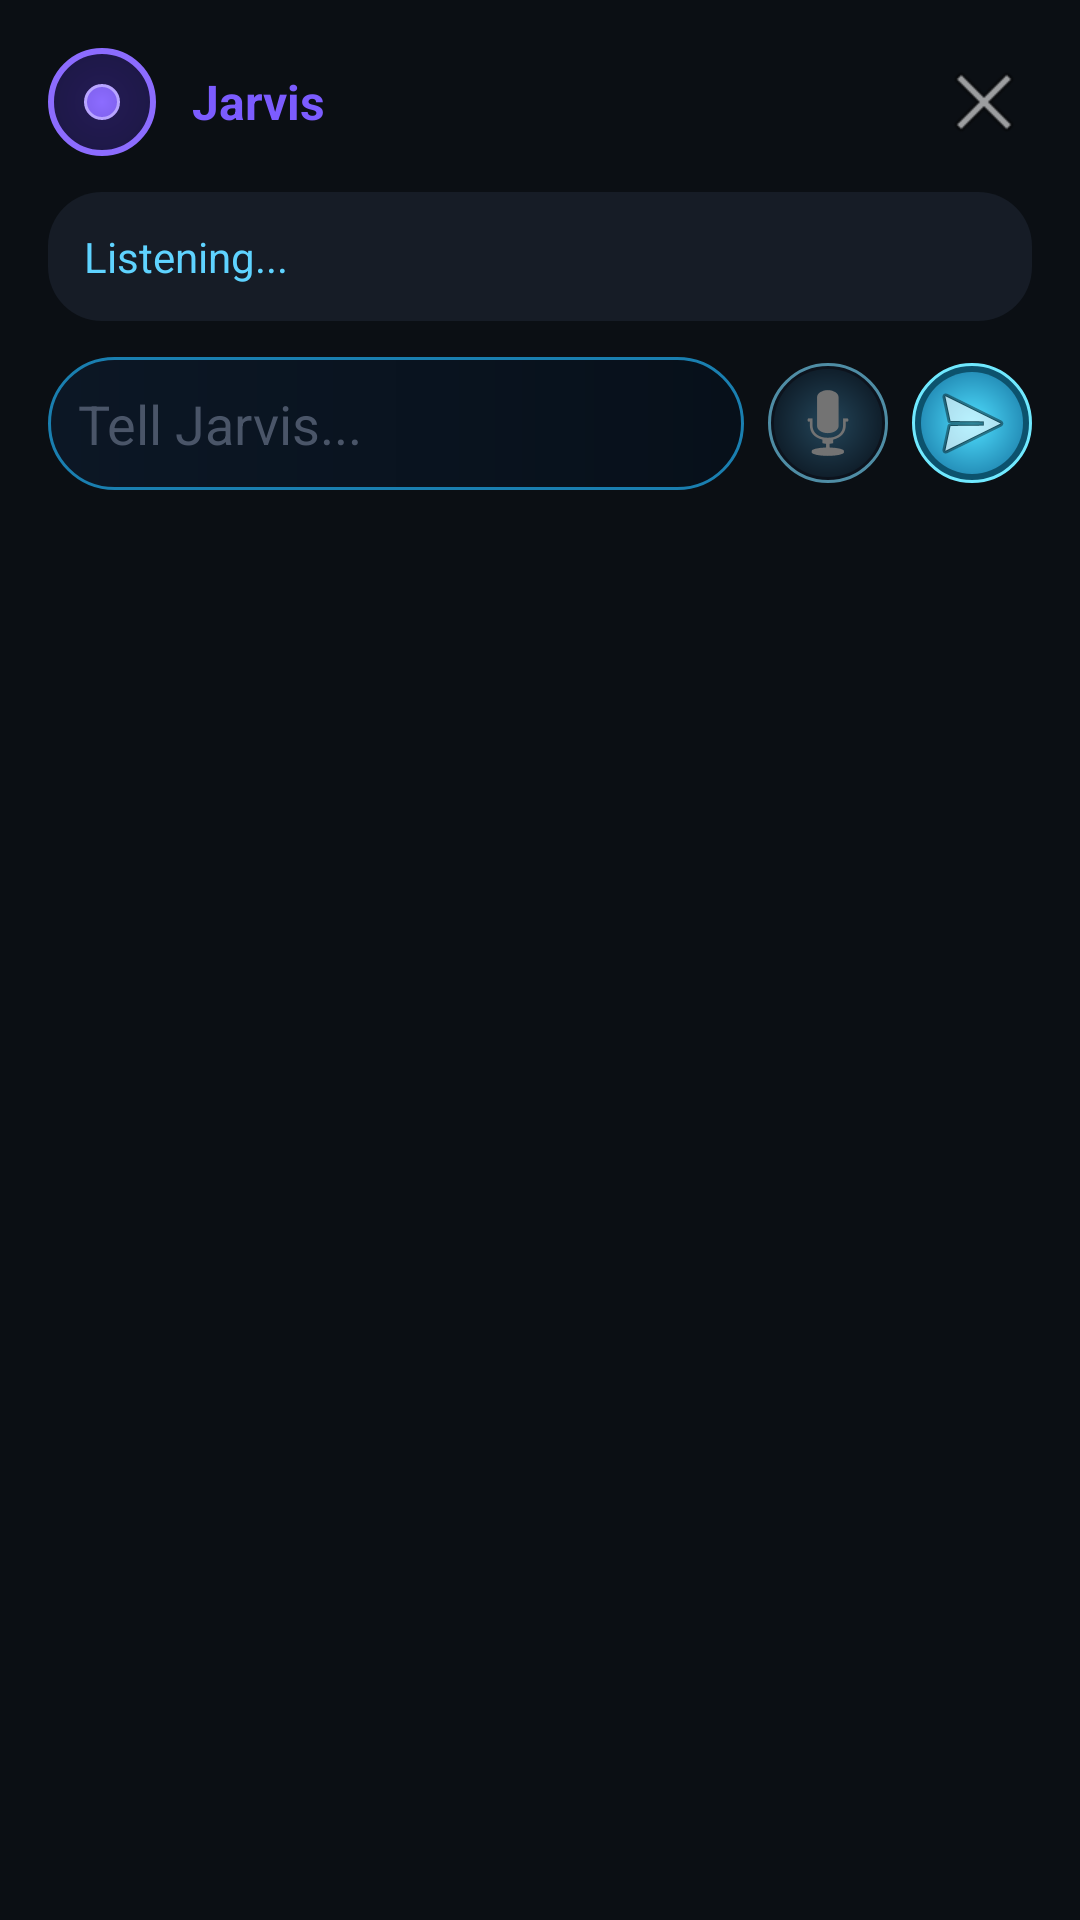

Named icons in this screenshot (1080x1920) and their bounding boxes, (x1, y1, x2, y2):
Close: (957, 75, 1011, 129)
orb calm: (48, 48, 156, 156)
Send: (912, 363, 1032, 483)
Voice input: (768, 363, 888, 483)
